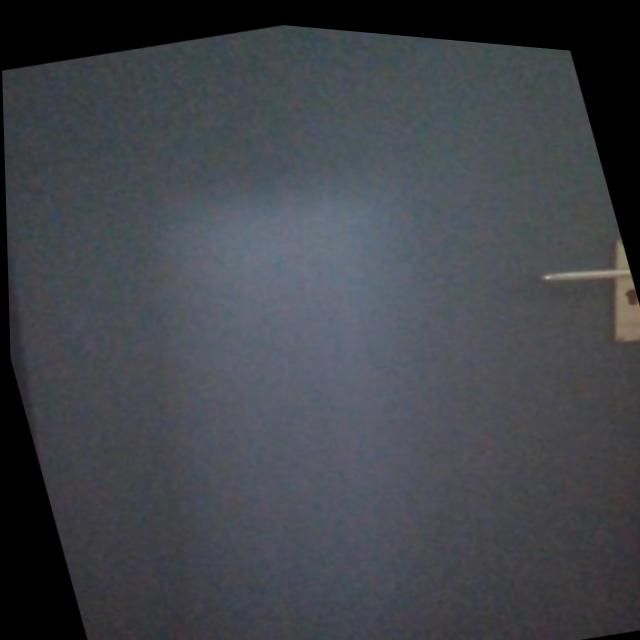door_handle: (528, 237, 632, 292)
